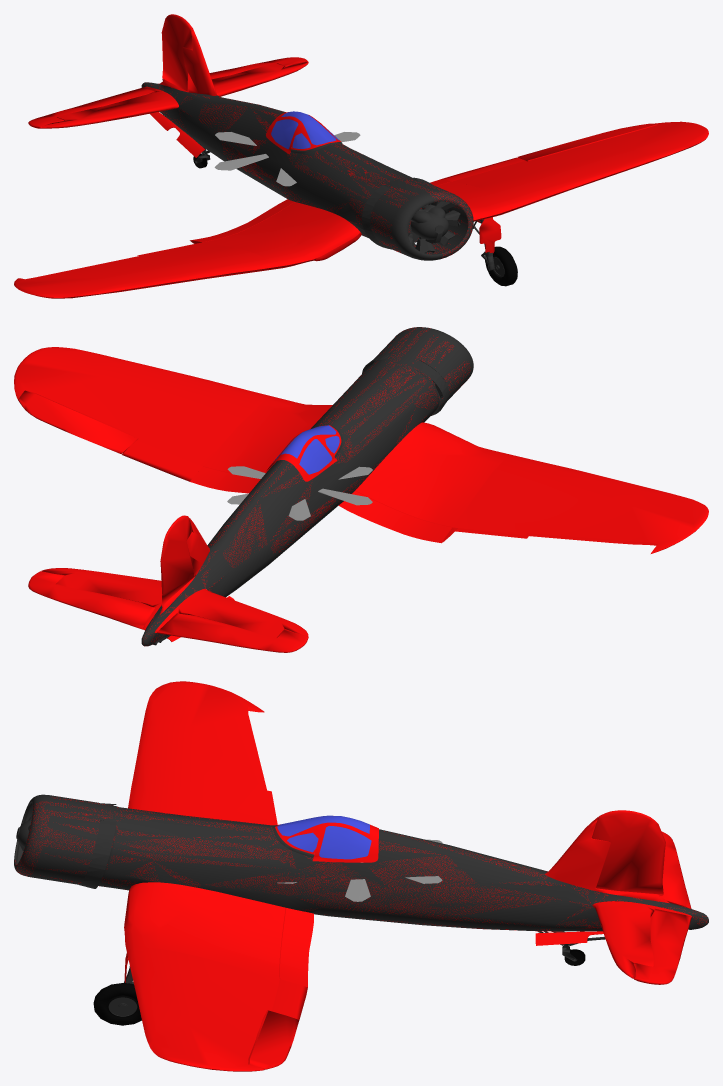
The model's file is Small airplane.fbx.
3 views of the same model, one above another, from view 1: azimuth 30°, elevation 25°; view 2: azimuth 150°, elevation 25°; view 3: azimuth 270°, elevation 25° (orthographic). The views are drawn at different scales.
Parts seen in each view (by area): view 1: Body, Engine, CabineWindows, Ruder, SystemWheelLeft, Elevators, Propellers, AleronLeft, SystemWheelBackDoor-Right, FlapLeft; view 2: Body, Engine, Elevators, AleronLeft, CabineWindows, Ruder, Propellers, FlapLeft; view 3: Body, Engine, Ruder, CabineWindows, Elevators, AleronLeft, SystemWheelLeft, FlapLeft, Propellers, SystemWheelBackDoor-Left.
Boxes of the visible parts, bbox=[...] form: Body: bbox=[14, 30, 708, 298]; Engine: bbox=[141, 82, 473, 260]; CabineWindows: bbox=[266, 111, 342, 154]; Ruder: bbox=[161, 14, 193, 91]; SystemWheelLeft: bbox=[473, 217, 517, 286]; Elevators: bbox=[28, 57, 308, 128]; Propellers: bbox=[214, 132, 360, 186]; AleronLeft: bbox=[518, 123, 656, 161]; SystemWheelBackDoor-Right: bbox=[149, 112, 204, 157]; FlapLeft: bbox=[442, 157, 525, 181]; Body: bbox=[14, 327, 708, 646]; Engine: bbox=[141, 327, 473, 646]; Elevators: bbox=[28, 571, 308, 652]; AleronLeft: bbox=[18, 390, 138, 453]; CabineWindows: bbox=[266, 425, 342, 481]; Ruder: bbox=[160, 515, 194, 605]; Propellers: bbox=[227, 466, 372, 520]; FlapLeft: bbox=[122, 440, 202, 481]; Body: bbox=[14, 681, 707, 1071]; Engine: bbox=[14, 794, 708, 931]; Ruder: bbox=[592, 810, 665, 894]; CabineWindows: bbox=[273, 815, 378, 862]; Elevators: bbox=[633, 831, 691, 984]; AleronLeft: bbox=[248, 1010, 299, 1069]; SystemWheelLeft: bbox=[93, 953, 141, 1025]; FlapLeft: bbox=[267, 979, 307, 1019]; Propellers: bbox=[277, 839, 442, 901]; SystemWheelBackDoor-Left: bbox=[535, 931, 603, 945].
Bounding box in the file's own units: 394 × 78.41 × 302.
